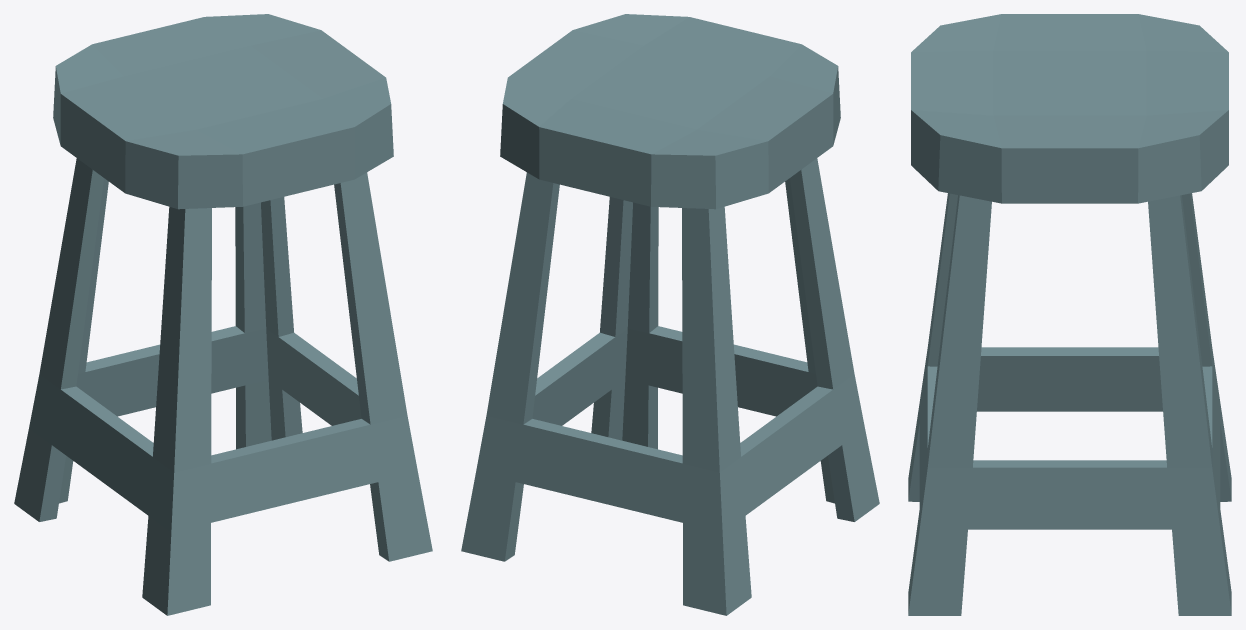
The model's file is Stool.fbx.
The picture shows the model from 3 angles, left to right: view 1: azimuth 30°, elevation 25°; view 2: azimuth 150°, elevation 25°; view 3: azimuth 270°, elevation 25°; orthographic projection. The views are drawn at different scales.
Visible parts, largest first — view 1: Stool; view 2: Stool; view 3: Stool.
Part boxes in pixels (box(x1,y1,x2,y2)): Stool: box(14, 14, 432, 615); Stool: box(461, 14, 879, 615); Stool: box(908, 14, 1231, 615).
Bounding box in the file's own units: 35.42 × 56.62 × 35.42.
